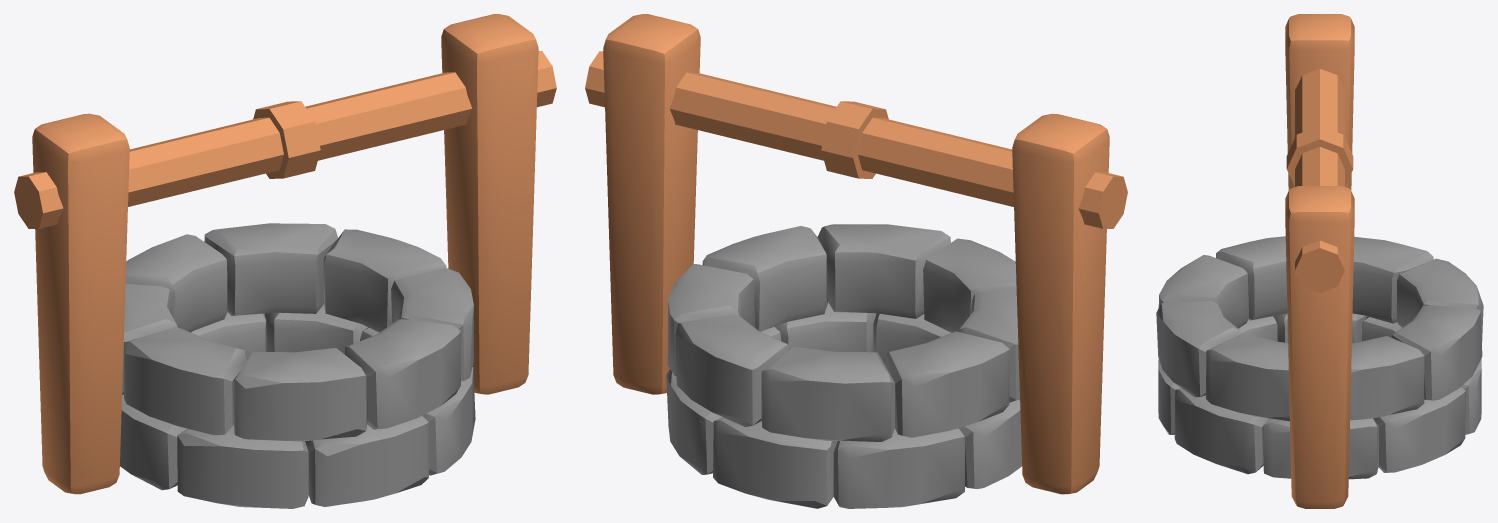
The model's file is Well.fbx.
3 renders of one model, left to right at view 1: azimuth 30°, elevation 25°; view 2: azimuth 150°, elevation 25°; view 3: azimuth 270°, elevation 25°, orthographic. The views are drawn at different scales.
Parts seen in each view (by area): view 1: Well; view 2: Well; view 3: Well.
Boxes of the visible parts, x1=… form: Well: x1=14, y1=14, x2=556, y2=508; Well: x1=585, y1=14, x2=1127, y2=508; Well: x1=1156, y1=14, x2=1483, y2=508.
Bounding box in the file's own units: 231 × 153 × 148.
